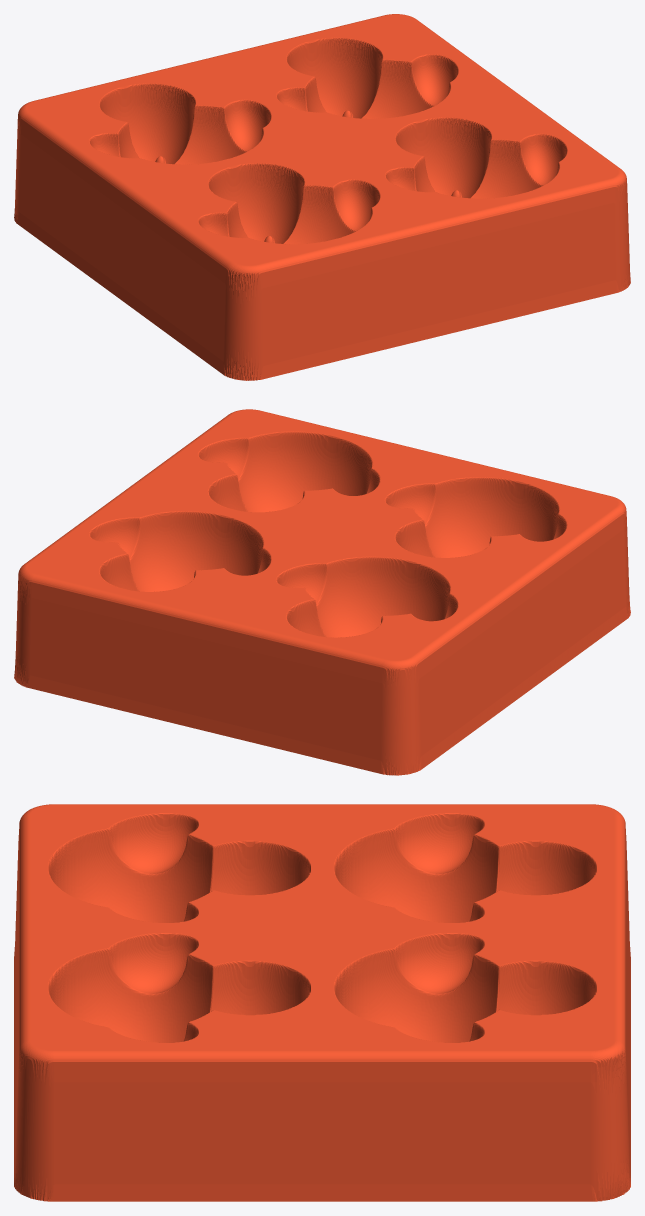
Rendered from mold.glb.
The picture shows the model from 3 angles, top to bottom: view 1: azimuth 30°, elevation 25°; view 2: azimuth 150°, elevation 25°; view 3: azimuth 270°, elevation 25°; orthographic projection. The views are drawn at different scales.
Visible parts, largest first — view 1: geometry_0; view 2: geometry_0; view 3: geometry_0.
Part boxes in pixels (<box>): geometry_0: <box>14,14,630,380</box>; geometry_0: <box>14,409,630,775</box>; geometry_0: <box>14,804,630,1201</box>.
Bounding box in the file's own units: 0.1383 × 0.0359 × 0.1392.
